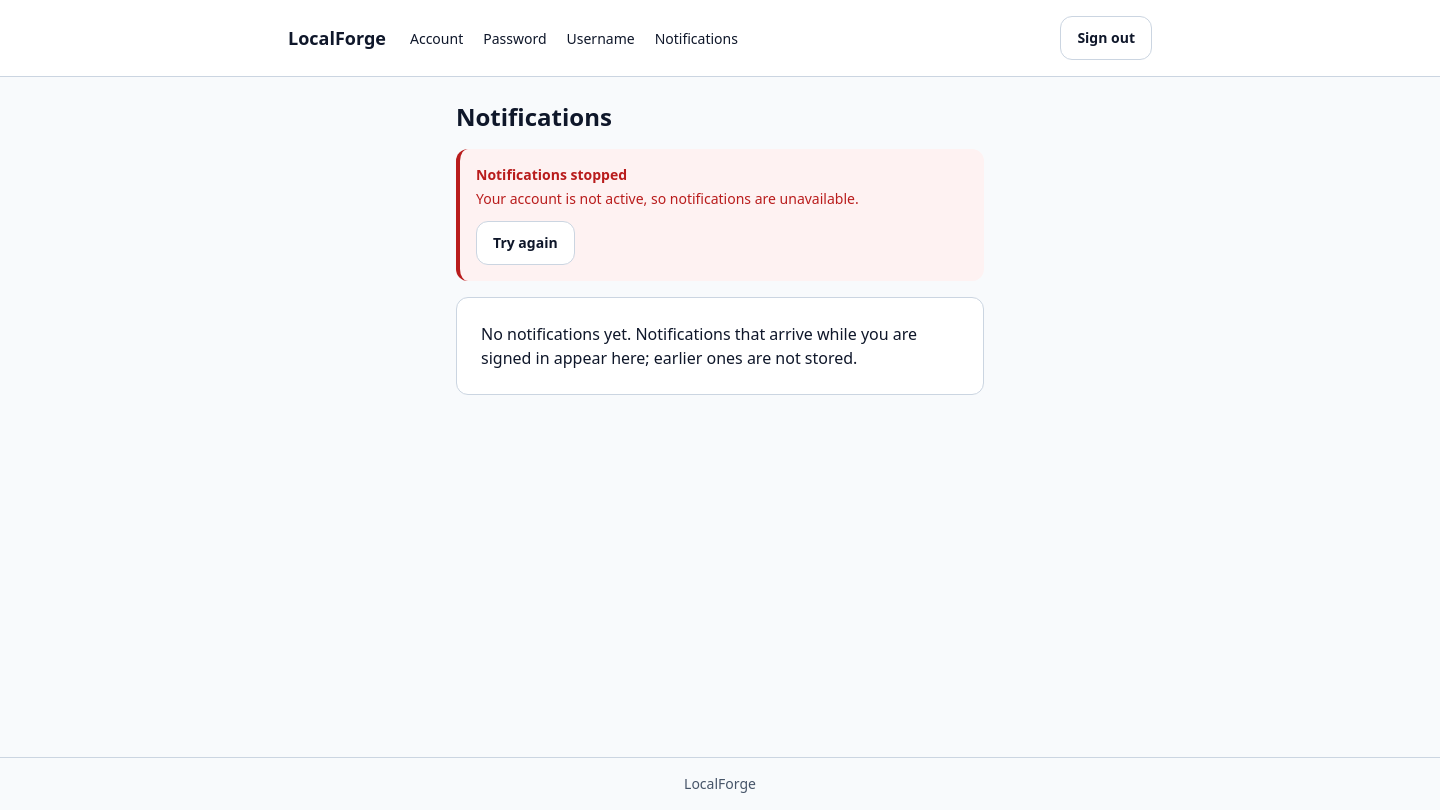
Test: connection states › stops with the reason and starts again from the button
expect the text "Notifications stopped" is shown: met, box [476,165,627,184]
expect the text "account is not active" is shown: met, box [476,189,859,208]
Click the button "Try again": (525, 243) [476,221,575,265]
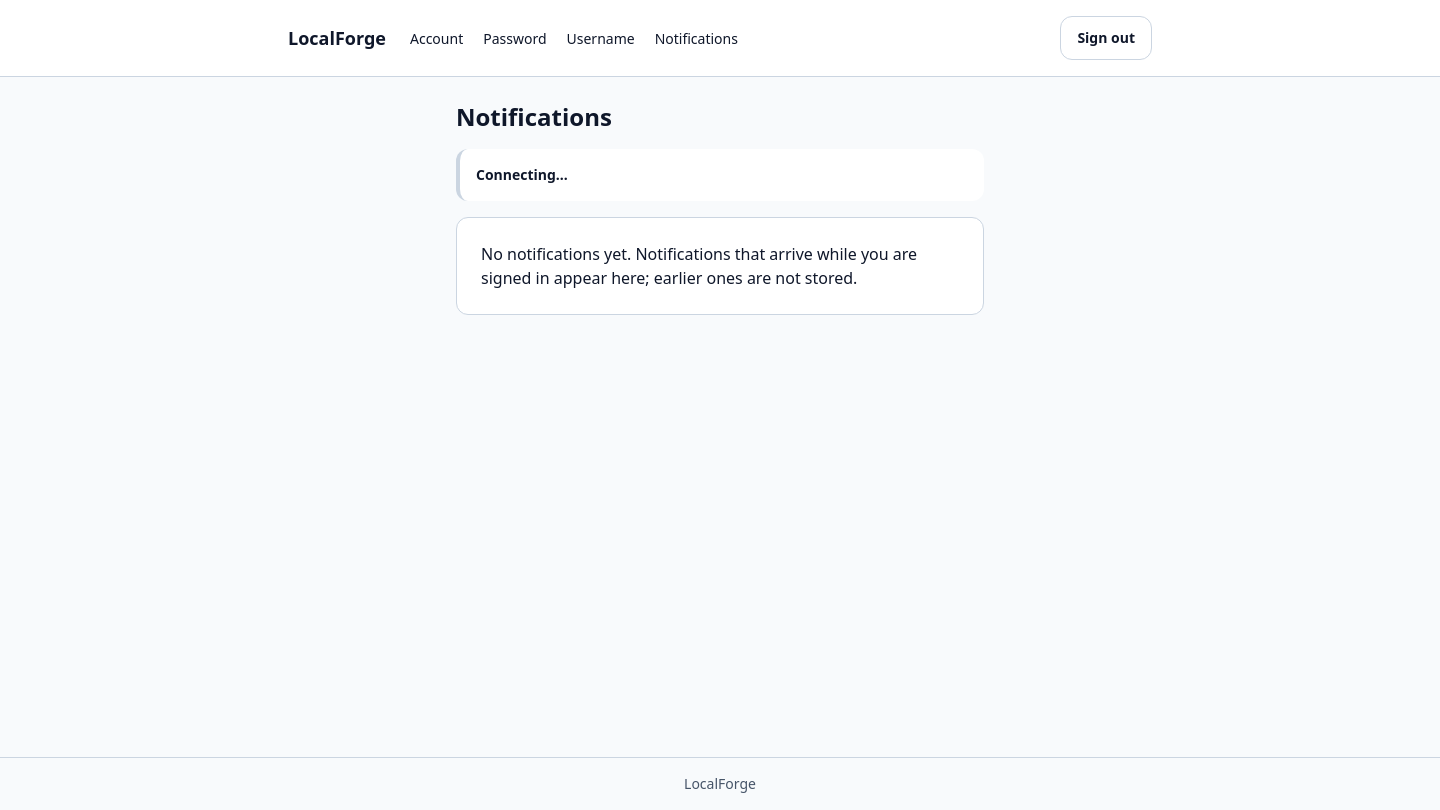
expect the text "Connecting…" is shown: met, box [476,165,568,184]
